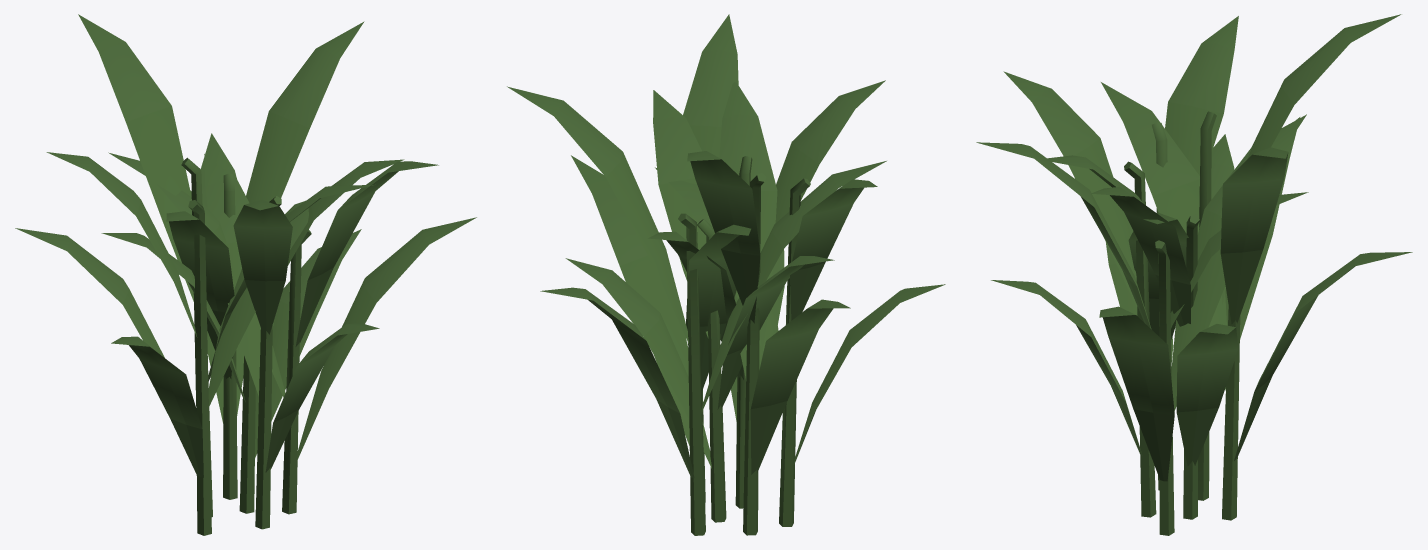
File: crop_barley_growing.glb
The picture shows the model from 3 angles, left to right: view 1: azimuth 30°, elevation 25°; view 2: azimuth 150°, elevation 25°; view 3: azimuth 270°, elevation 25°; orthographic projection. The views are drawn at different scales.
Parts seen in each view (by area): view 1: barley_leaf_0_0; view 2: barley_leaf_0_0; view 3: barley_leaf_0_0.
Boxes of the visible parts, left/top/right/bottom form: barley_leaf_0_0: left=15, top=14, right=476, bottom=535; barley_leaf_0_0: left=507, top=14, right=945, bottom=535; barley_leaf_0_0: left=976, top=14, right=1412, bottom=535.
Size of the model in its own units: 0.6606 by 0.7539 by 0.6419.
